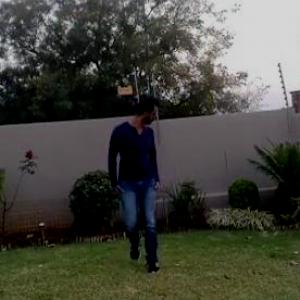follow: (110, 87, 174, 290)
